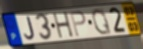2: (109, 7, 127, 34)
3: (35, 13, 54, 41)
H: (52, 11, 75, 40)
J: (24, 16, 36, 41)
P: (69, 11, 87, 38)
Q: (91, 7, 113, 36)
